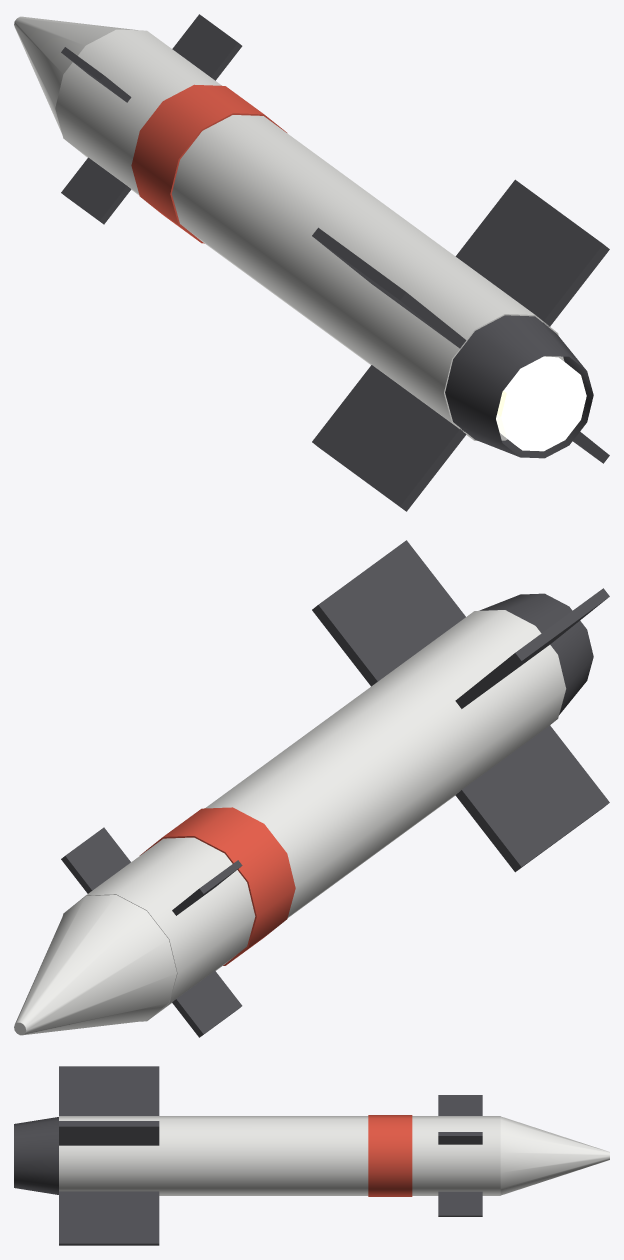
The model's file is missile.glb.
3 renders of one model, top to bottom at view 1: azimuth 30°, elevation 25°; view 2: azimuth 150°, elevation 25°; view 3: azimuth 270°, elevation 25°, orthographic. The views are drawn at different scales.
Visible parts, largest first — view 1: Missile, Missile_Glow; view 2: Missile; view 3: Missile.
Boxes of the visible parts, x1,y1,x2,y2 form: Missile: (14, 14, 609, 511); Missile_Glow: (496, 356, 586, 451); Missile: (14, 540, 609, 1037); Missile: (14, 1066, 609, 1245).
Bounding box in the file's own units: 0.6859 × 0.6859 × 2.97.
